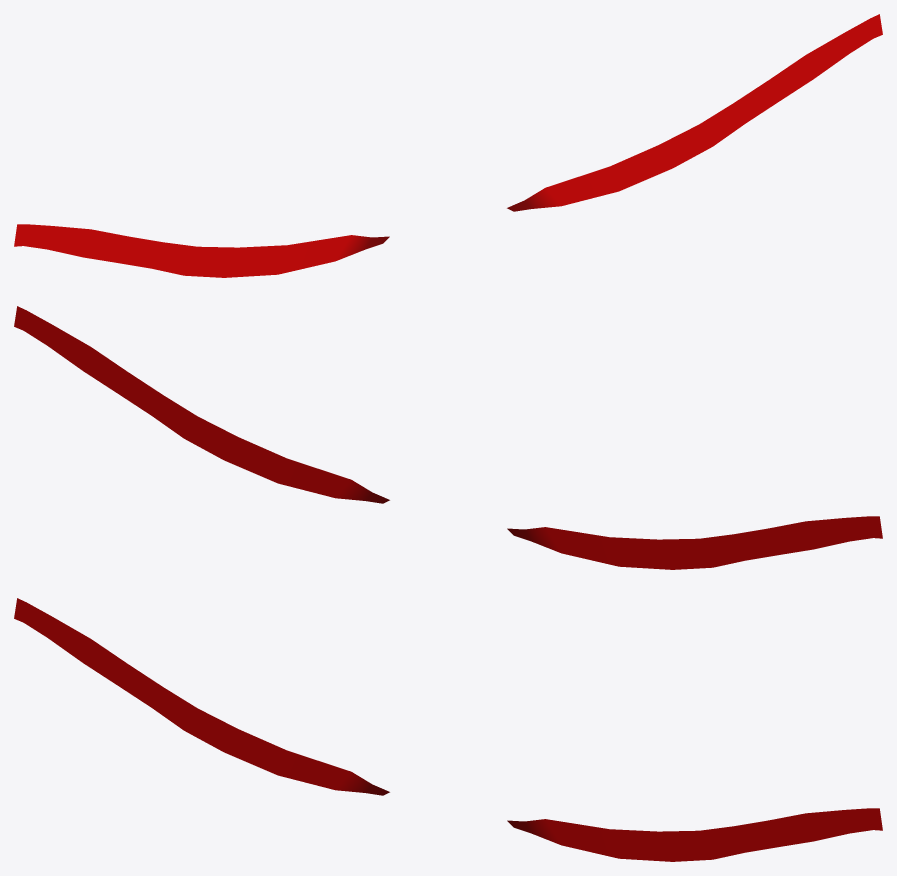
The model's file is frame155.fbx.
3 views of the same model, one above another, from view 1: azimuth 30°, elevation 25°; view 2: azimuth 150°, elevation 25°; view 3: azimuth 330°, elevation 25° (orthographic).
Visible parts, largest first — view 1: MaterialLayer; view 2: MaterialLayer; view 3: MaterialLayer.
Boxes of the visible parts, x1,y1,x2,y2 form: MaterialLayer: (14, 14, 882, 277); MaterialLayer: (14, 306, 882, 569); MaterialLayer: (14, 598, 882, 861).
Bounding box in the file's own units: 1487 × 187 × 0.
